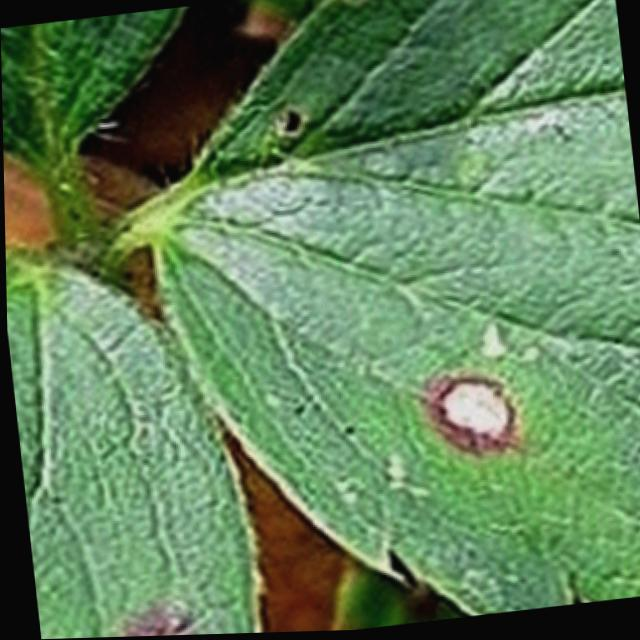Leaf Spot: (139, 0, 640, 619), (4, 244, 262, 639)
